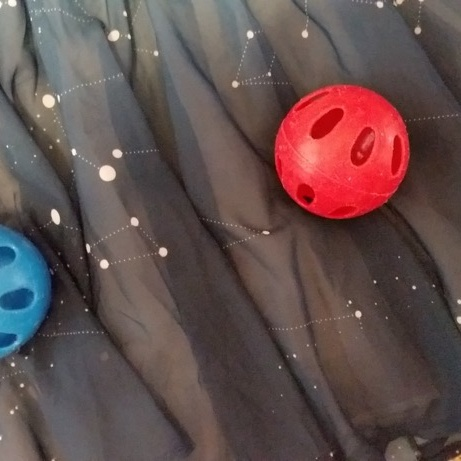blueball: (1, 224, 57, 361)
redball: (272, 82, 414, 222)
